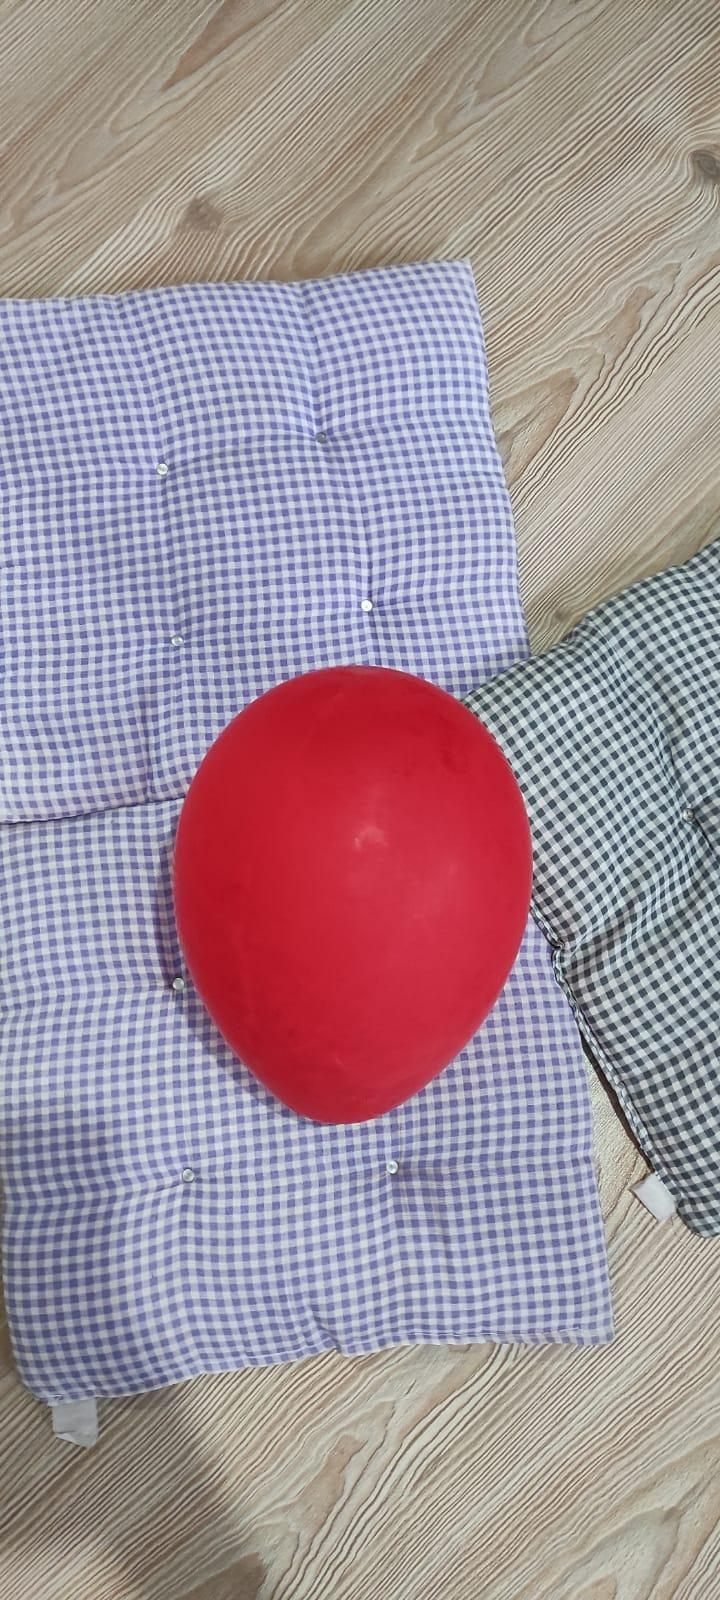red: (154, 667, 541, 1135)
